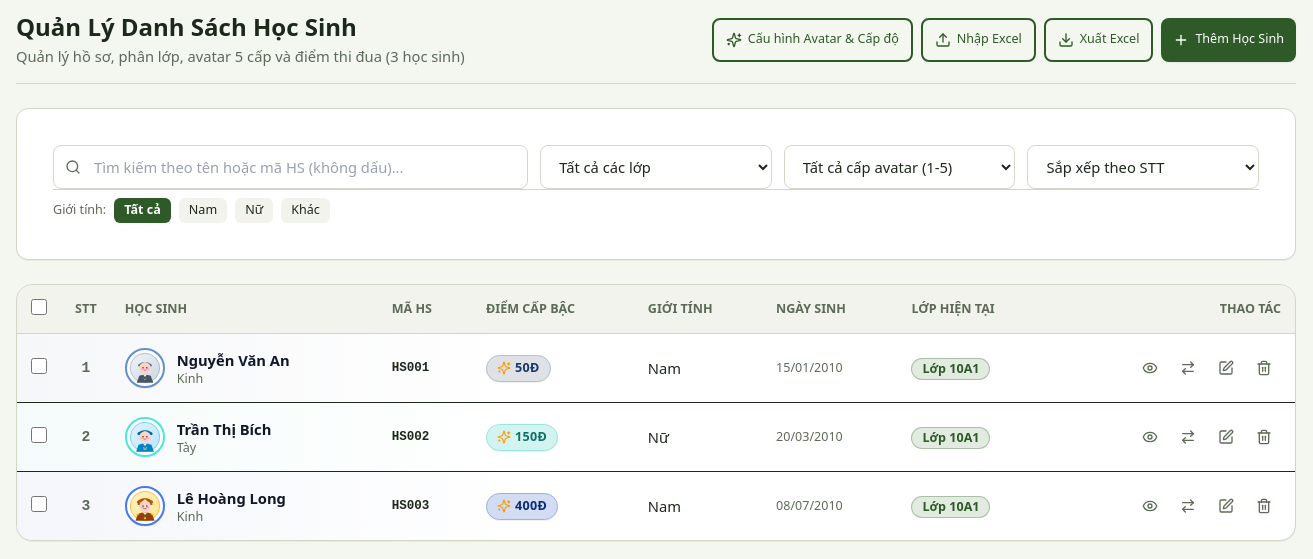
Test: StudentsPage UI & 5-Level Avatar Integration Tests (FEAT-AVATAR-002) › 3. Filters students by derived 5-Level Avatar selector
Expected: the row with test id "student-row-st-1" is shown, [17, 334, 1295, 403]
Note: Filter Level 3 only
Select "Cấp 3: Bứt phá (≥300đ)" in the 2nd dropdown: coordinates (900, 167) [784, 145, 1015, 189]
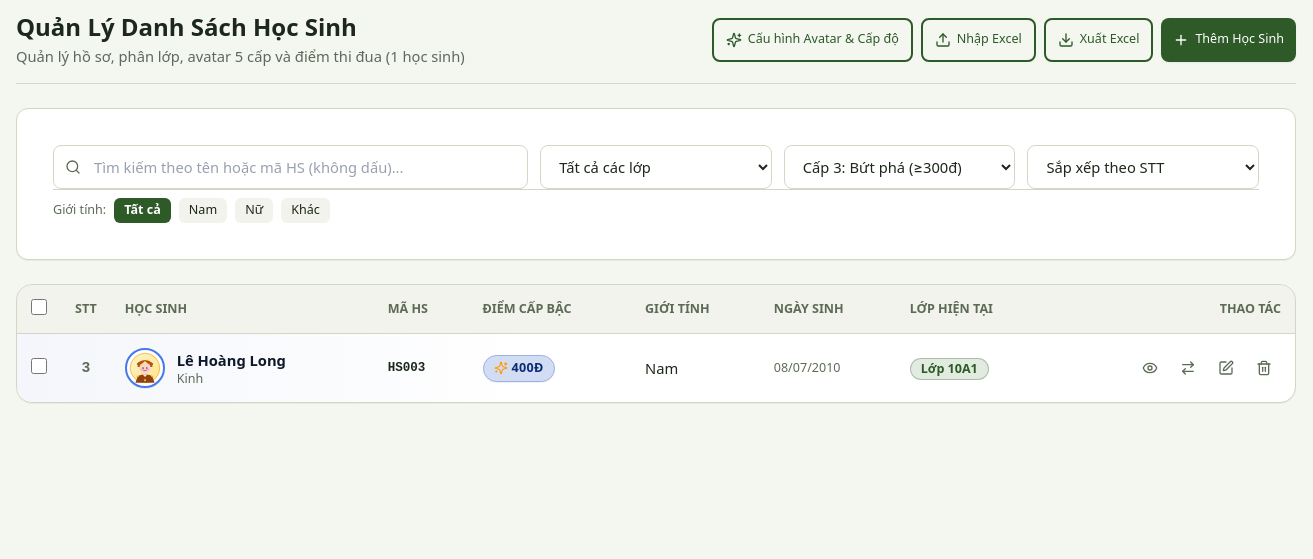
Expected: the text "Lê Hoàng Long" is shown, [177, 350, 286, 371]
Expected: the text "Nguyễn Văn An" is gone
Expected: the text "Trần Thị Bích" is gone
